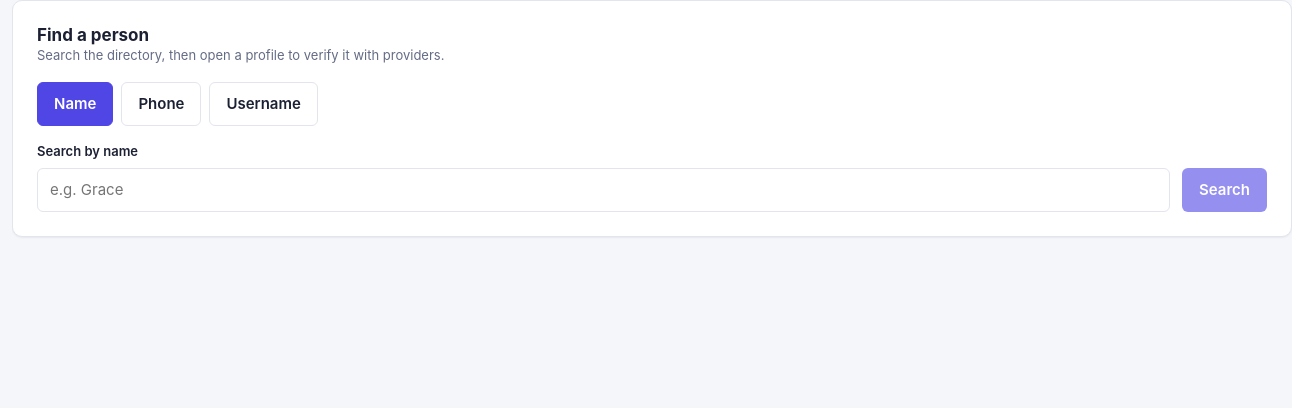
SearchPage › searches by the selected field and lists results
Click the button "Phone" at (161, 104), box [121,82,201,126]
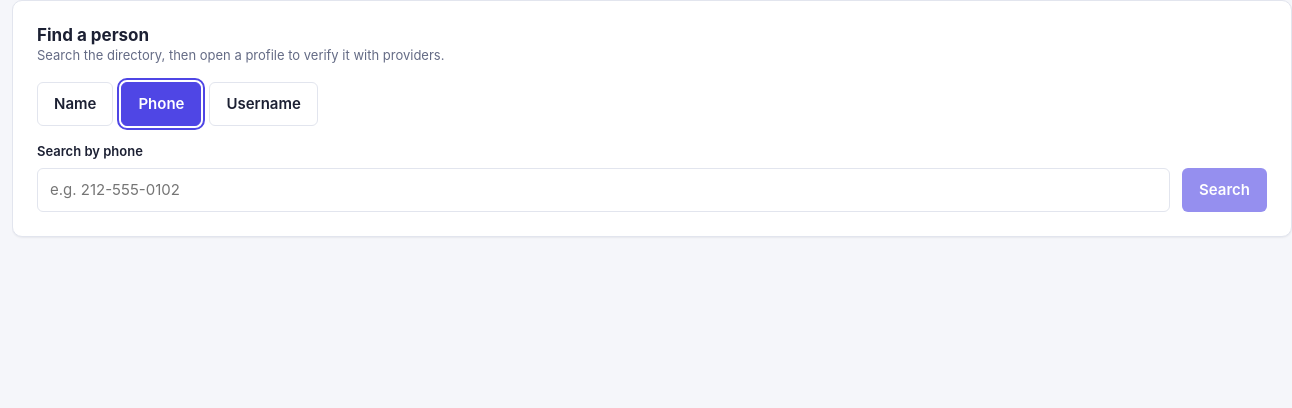
Type "212-555-0102" into the field labelled "Search by phone" at (604, 190), box [37,168,1170,212]
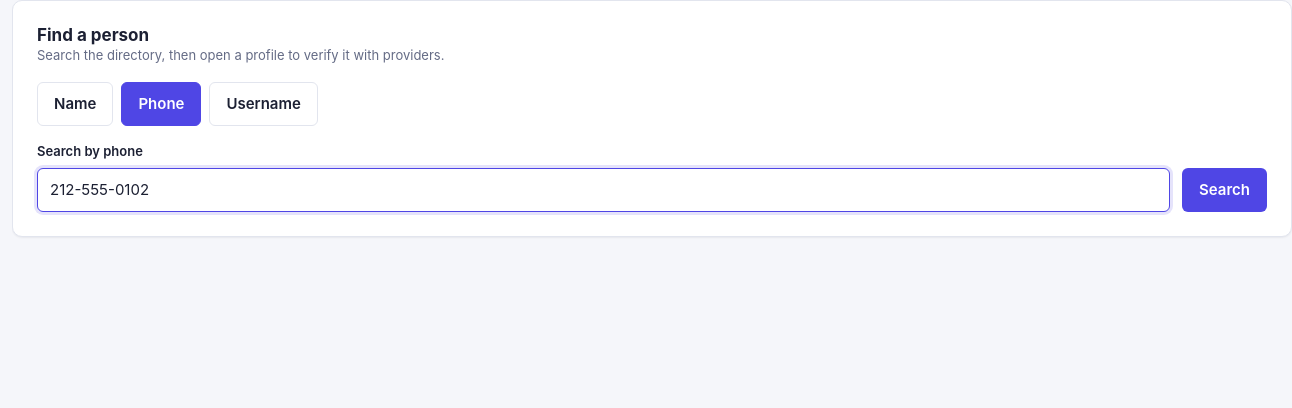
Click the button "Search" at (1225, 190), box [1182,168,1267,212]
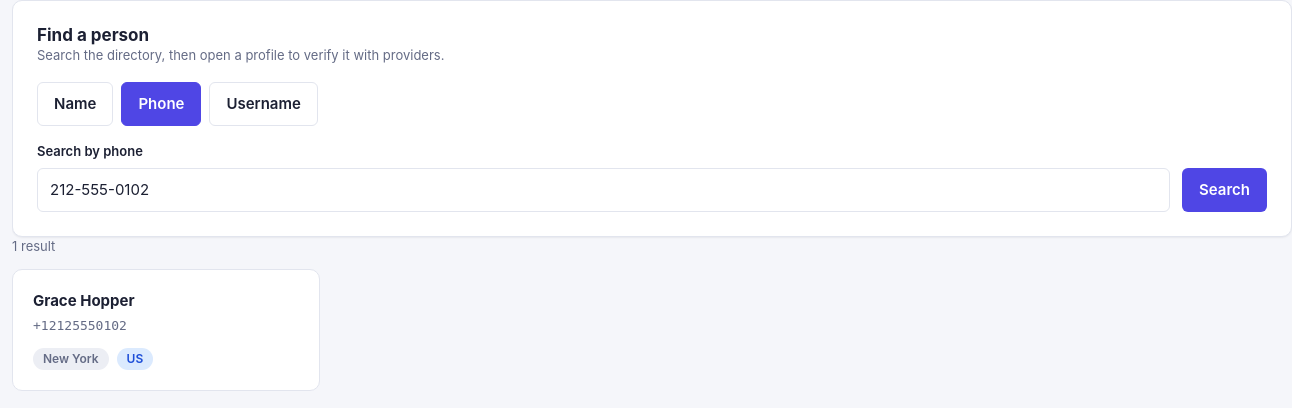
Result: the text "1 result" is shown at [12,238,55,254]
